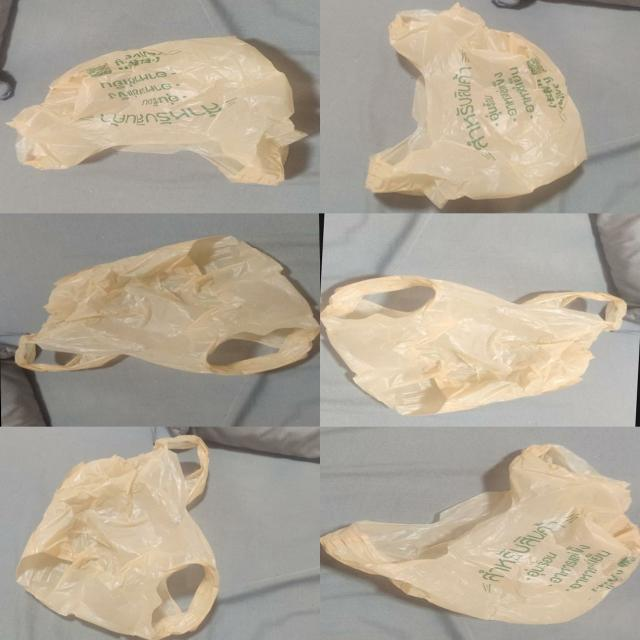Single-layer Plastic: (320, 444, 639, 623), (365, 4, 587, 208), (9, 36, 305, 184), (16, 236, 319, 375), (322, 276, 625, 415), (16, 435, 219, 640)
